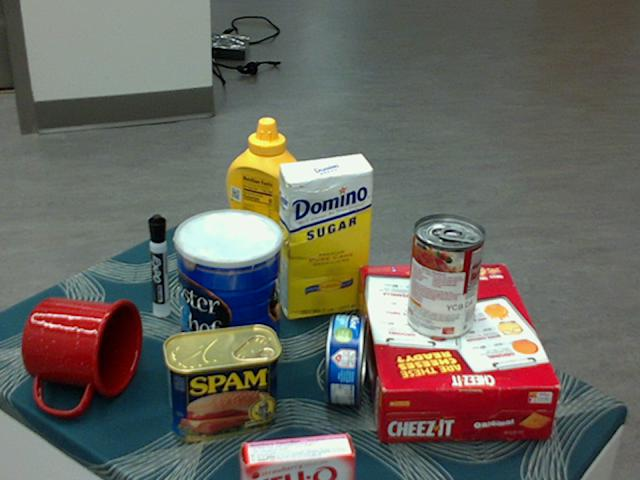cracker_box: (355, 266, 560, 438)
gelatin_box: (237, 433, 352, 479)
large_marker: (148, 213, 167, 316)
master_chef_can: (175, 209, 283, 383)
mug: (21, 296, 142, 414)
mustard_bottle: (226, 117, 306, 287)
potted_meat_can: (162, 324, 281, 441)
sugar_box: (278, 155, 373, 320)
tomato_soup_can: (405, 215, 484, 341)
tuna_fish_can: (325, 314, 367, 405)
